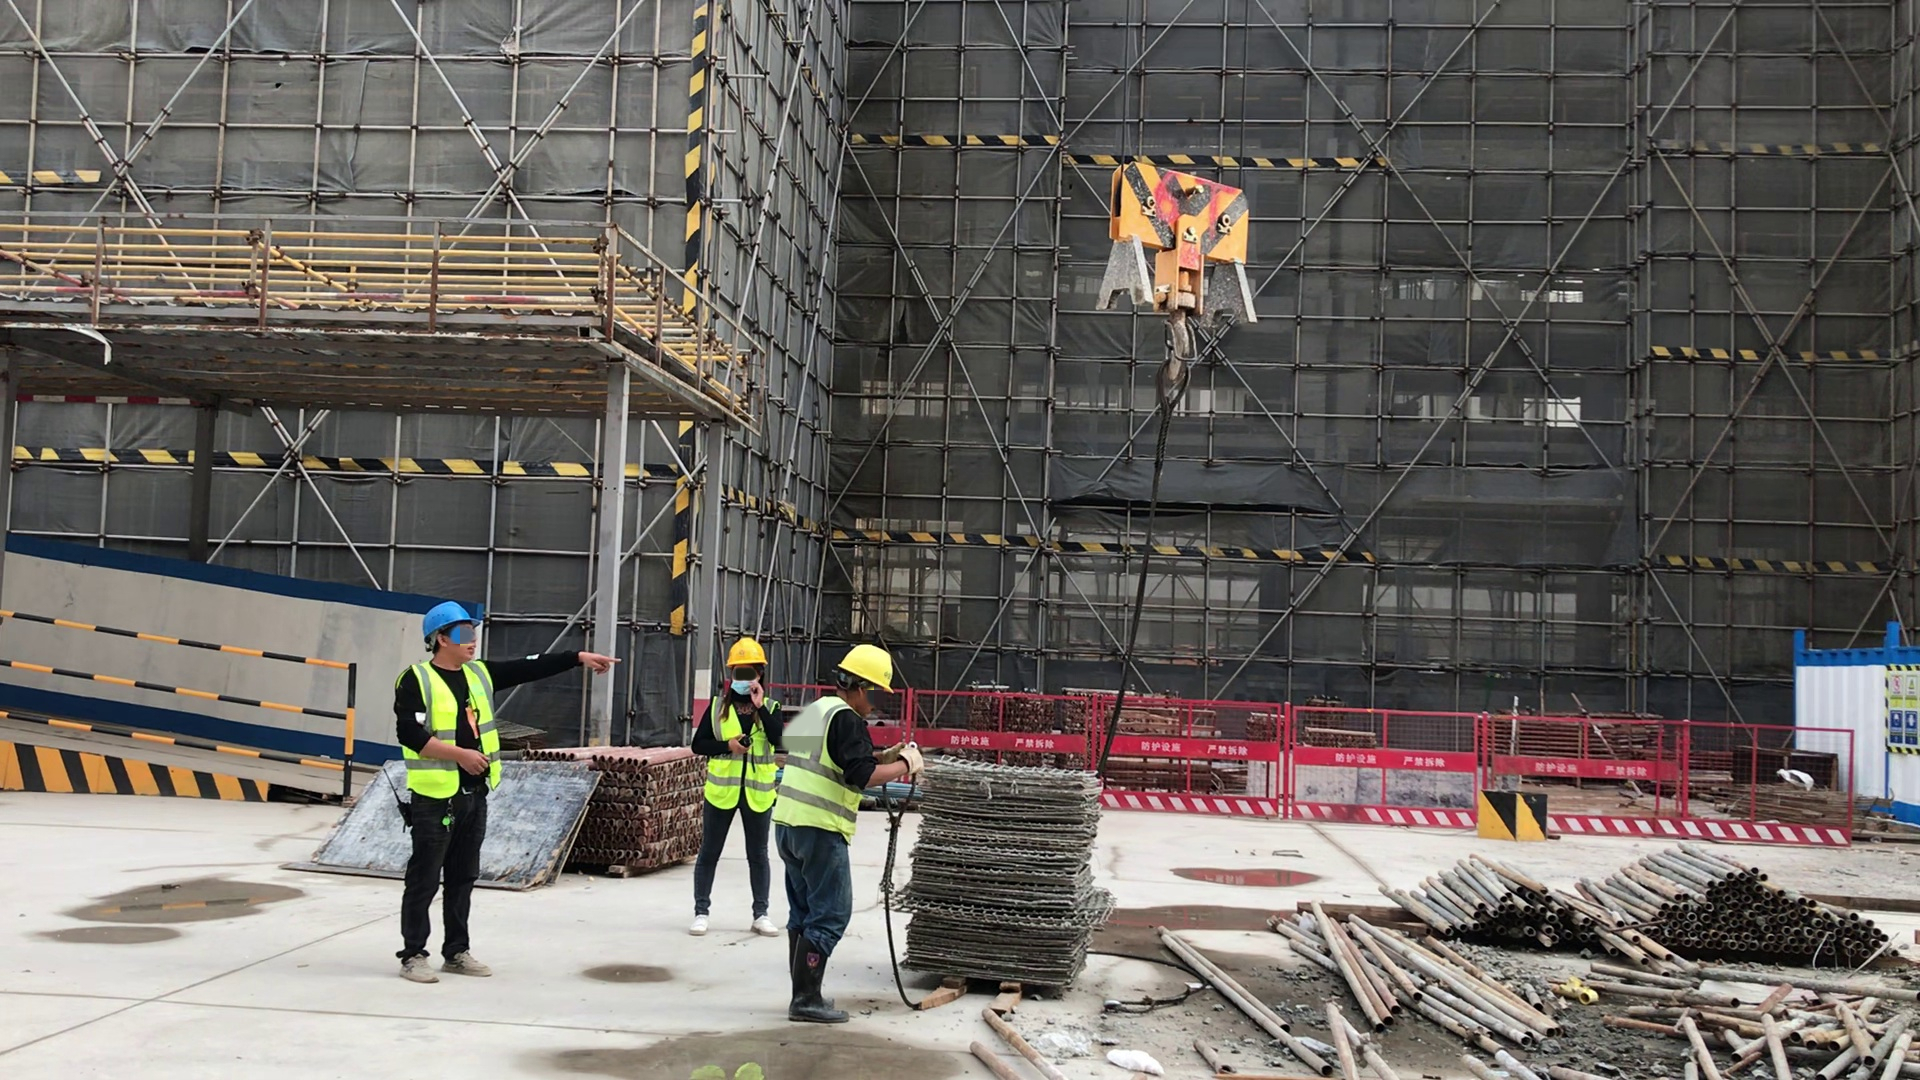fence: (3, 600, 363, 774), (1133, 693, 1469, 835), (1552, 716, 1859, 854), (930, 683, 1089, 757)
helmet: (836, 645, 895, 695), (416, 600, 482, 642), (726, 637, 771, 670)
hook: (1095, 161, 1259, 380)
person: (776, 643, 925, 1025), (386, 600, 503, 986), (688, 631, 783, 940)
scaffold: (1596, 842, 1892, 979), (1373, 854, 1593, 952), (600, 739, 692, 882)
slogan: (1893, 673, 1920, 750)
vest: (401, 659, 504, 798), (783, 699, 868, 843), (710, 695, 772, 818)
